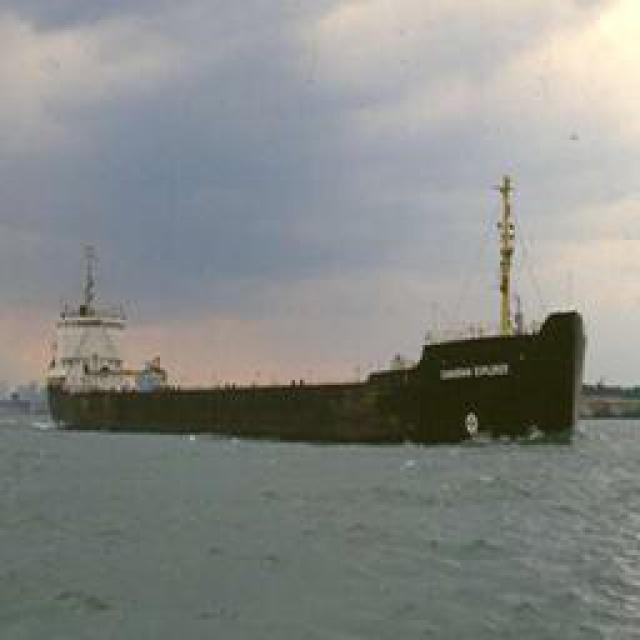Ship: (34, 249, 591, 455)
